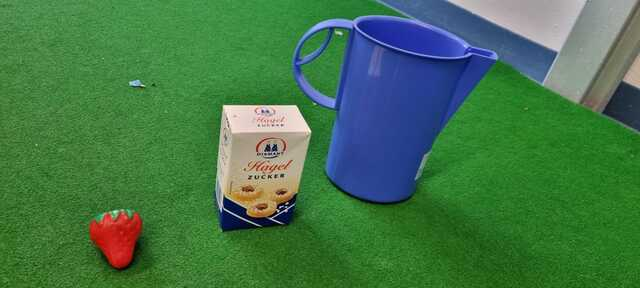004_sugar_box: (212, 100, 313, 233)
012_strawberry: (85, 206, 146, 271)
019_pitcher_base: (291, 13, 501, 207)
